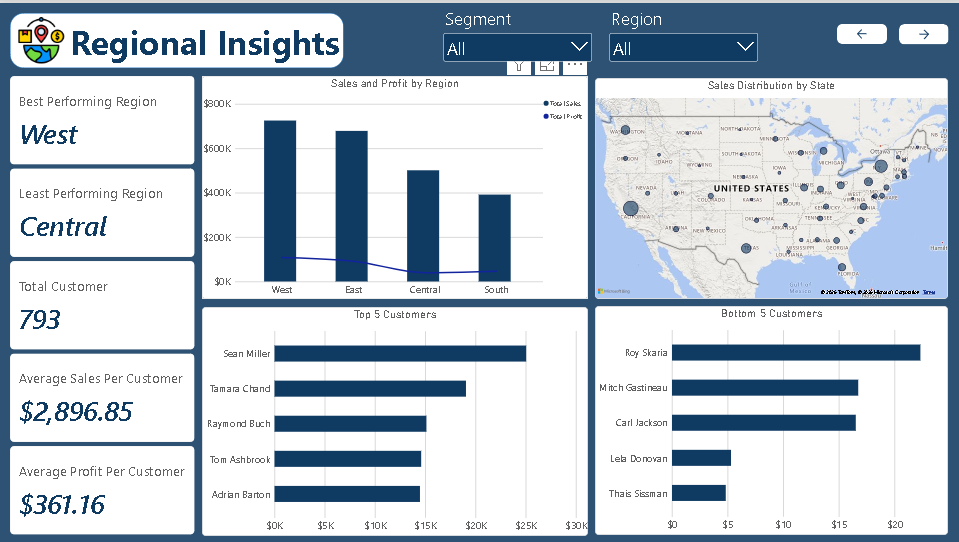

What the dashboard file says about the page in this screenshot:
{"tool":"powerbi","page":{"name":"Regional Insights","canvas":[1920,1080],"ordinal":4},"visuals":[{"type":"shape","box":[19.4,19.4,667.4,110.2],"z":0},{"type":"actionButton","box":[1674,41,100,40],"z":1},{"type":"actionButton","box":[1797.1,41,99.4,41],"z":2},{"type":"image","box":[34.6,28.1,97.2,92.9],"z":3}]}

Visuals, with their boxes in screenshot pixels (x1, y1, x2, y2), scaled from the page's 1920x1080 canvas onto the 959x542 screenshot:
shape: 10,10,343,65
actionButton: 836,21,886,41
actionButton: 898,21,947,41
image: 17,14,66,61
